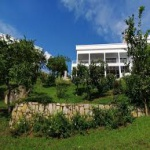Uncultivated: (22, 69, 135, 150)
